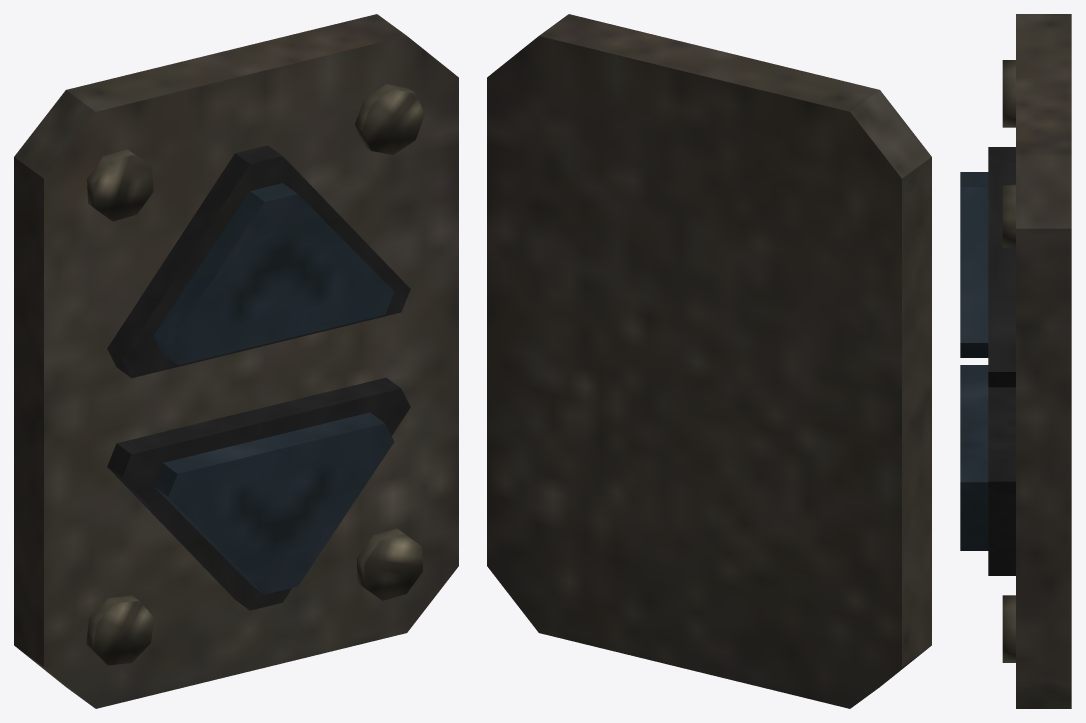
File: buttons_etx_blue_1.obj
3 renders of one model, left to right at view 1: azimuth 30°, elevation 25°; view 2: azimuth 150°, elevation 25°; view 3: azimuth 270°, elevation 25°, orthographic. The views are drawn at different scales.
Parts seen in each view (by area): view 1: buttons_etx_blue_1, buttons_etx_blue_1_child_1, buttons_etx_blue_1_child_2; view 2: buttons_etx_blue_1; view 3: buttons_etx_blue_1, buttons_etx_blue_1_child_1, buttons_etx_blue_1_child_2.
Boxes of the visible parts, x1=… form: buttons_etx_blue_1: x1=14, y1=14, x2=458, y2=708; buttons_etx_blue_1_child_1: x1=153, y1=183, x2=394, y2=365; buttons_etx_blue_1_child_2: x1=153, y1=412, x2=394, y2=594; buttons_etx_blue_1: x1=487, y1=14, x2=931, y2=708; buttons_etx_blue_1: x1=988, y1=14, x2=1071, y2=708; buttons_etx_blue_1_child_1: x1=960, y1=172, x2=988, y2=357; buttons_etx_blue_1_child_2: x1=960, y1=365, x2=988, y2=550.
Size of the model in its own units: 0.144 by 0.198 by 0.036.
